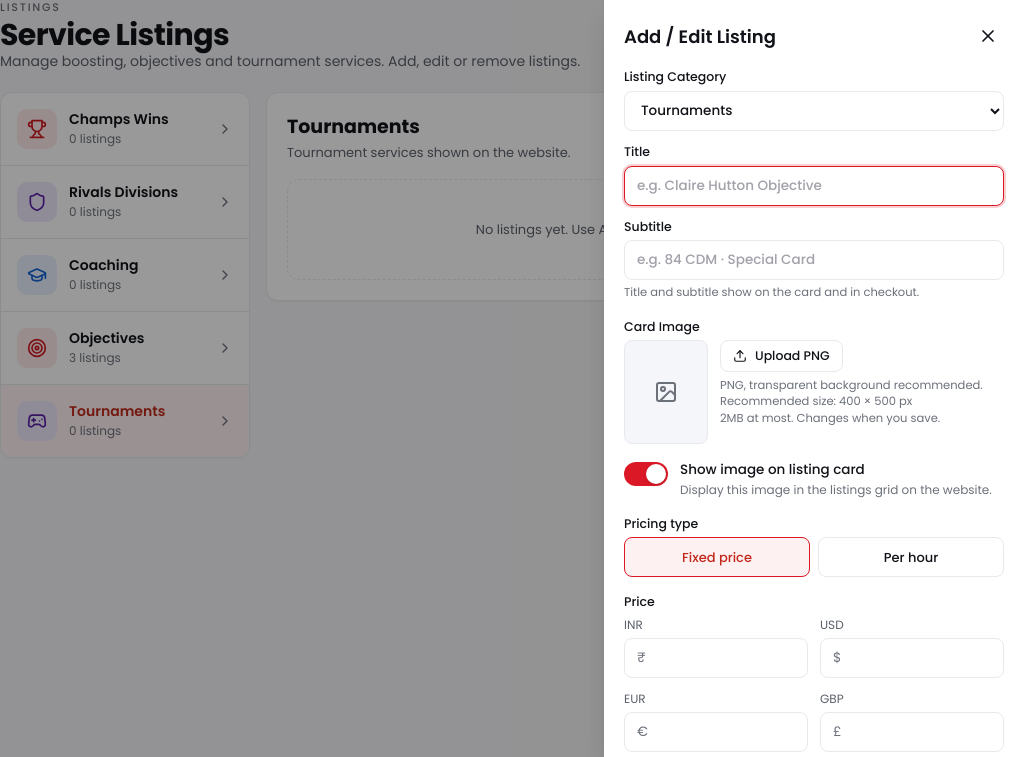
Test: Add / Edit Listing › will not make a listing active with no price
The width and height of the screenshot is (1024, 757).
expect the dropdown labelled "Listing Category" shows "Tournaments": met, box [624, 91, 1004, 131]
Type "Weekend Cup" into the field labelled "Title" at (814, 186), box [624, 166, 1004, 206]
(page scrolled)
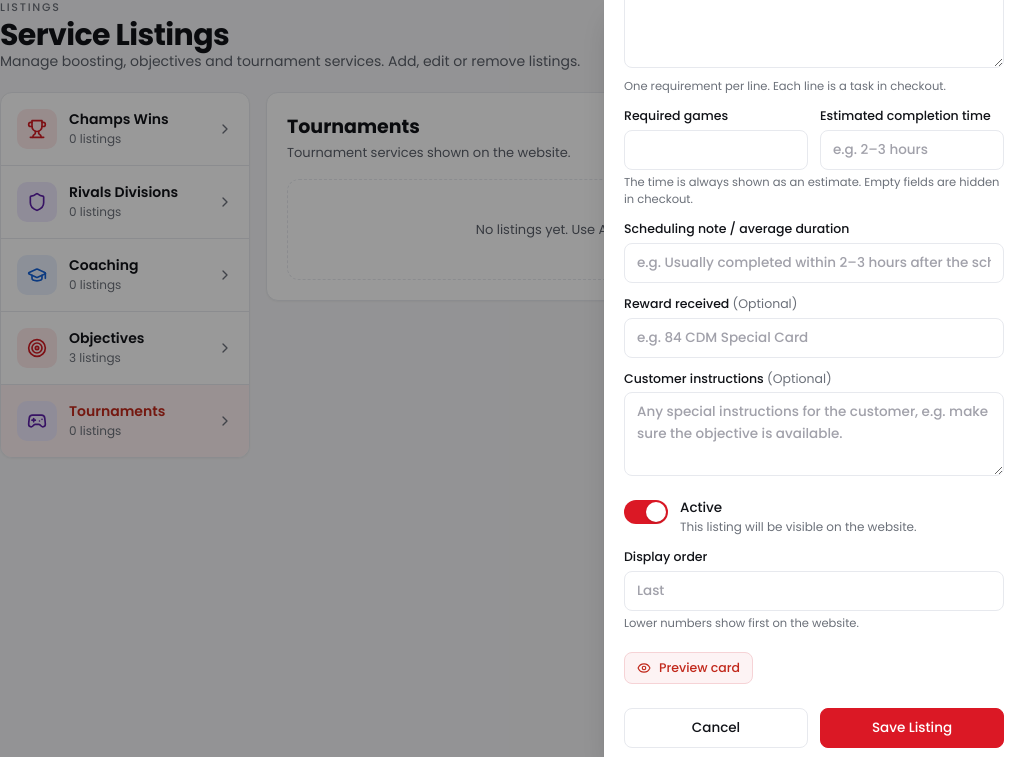
Click the button "Save Listing" at (912, 728), box [820, 708, 1004, 748]
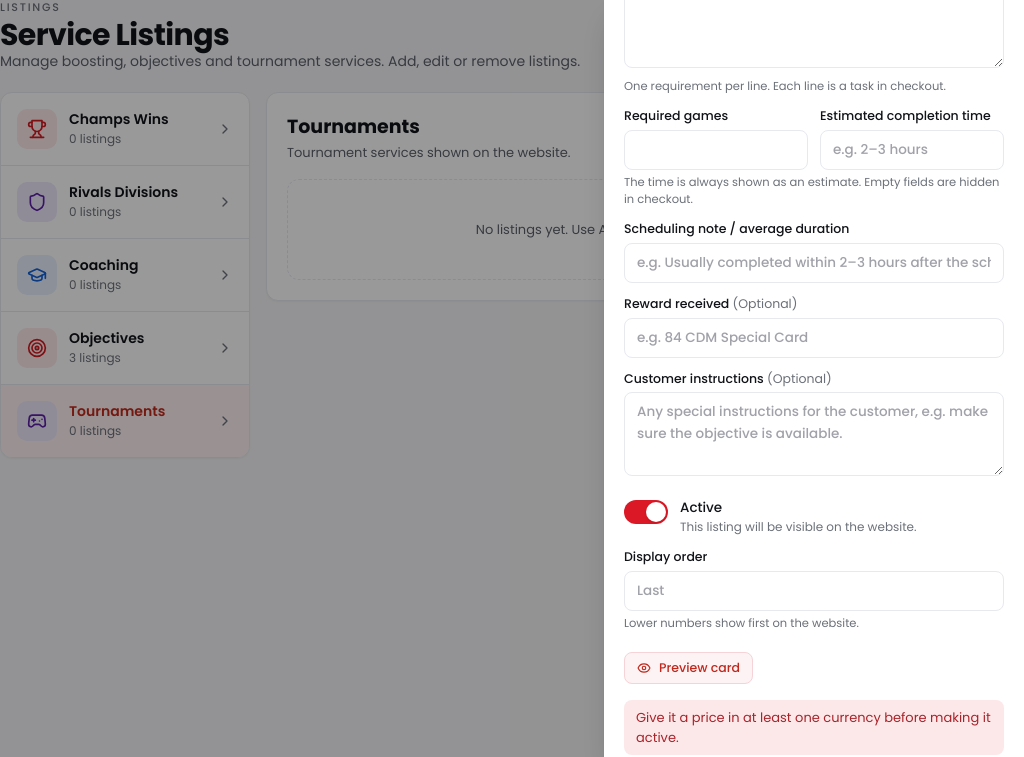
expect the message shows "at least one currency": met, box [636, 708, 991, 747]
